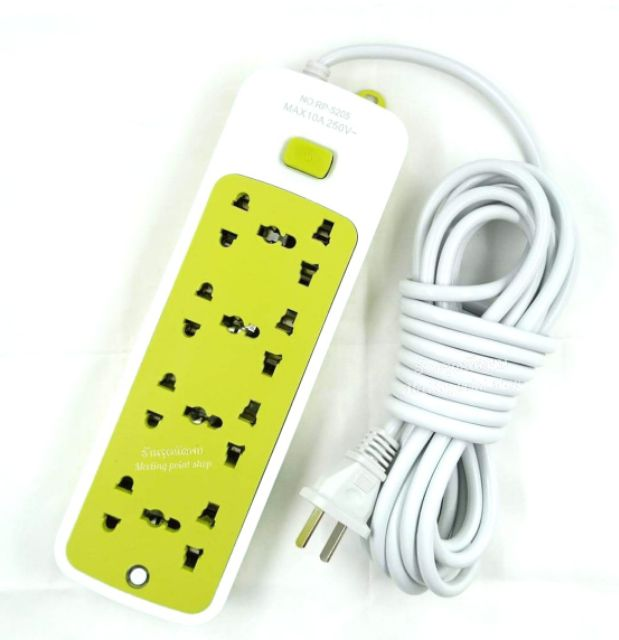Three_eye_plug: (52, 58, 446, 635)
